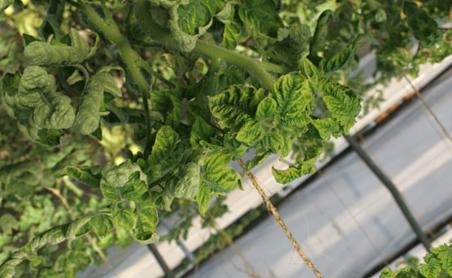Tomato leaf yellow virus: (160, 125, 258, 225), (235, 66, 329, 155), (148, 0, 240, 63), (126, 119, 195, 183), (254, 0, 347, 17)
